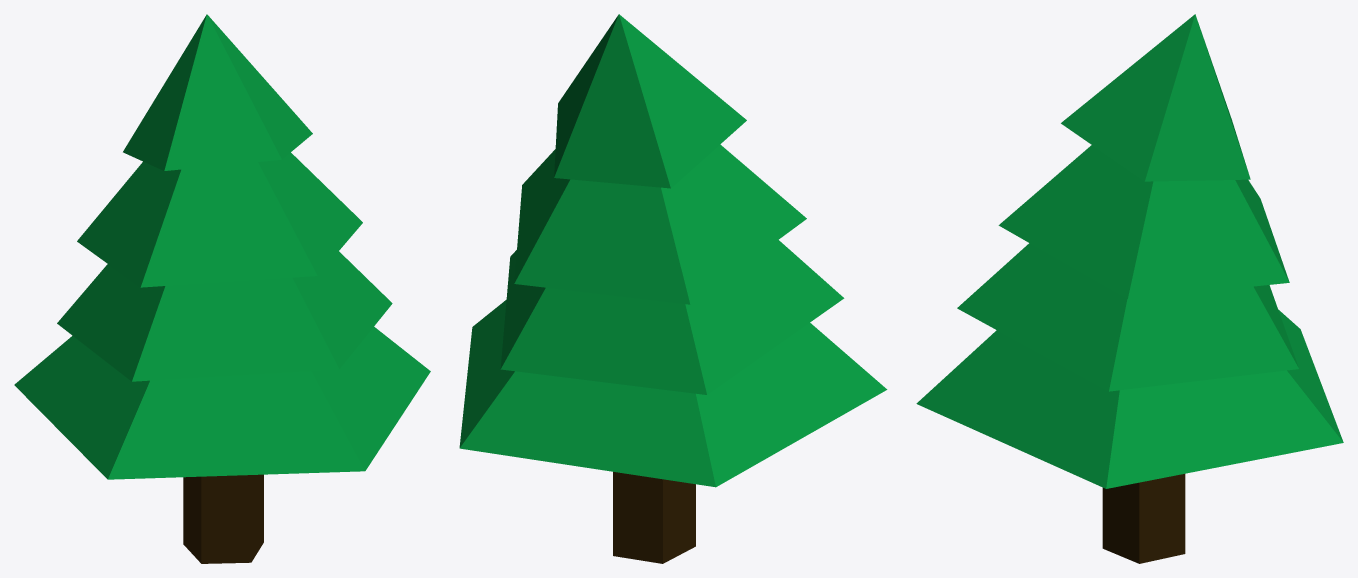
File: Tree_2.fbx
3 views of the same model, side by side, from view 1: azimuth 30°, elevation 25°; view 2: azimuth 150°, elevation 25°; view 3: azimuth 270°, elevation 25° (orthographic). The views are drawn at different scales.
Parts seen in each view (by area): view 1: Tree2_Leaves1, Tree2_Leaves2, Tree2_Leaves3, Tree2_Leaves4, Tree2; view 2: Tree2_Leaves1, Tree2_Leaves3, Tree2_Leaves2, Tree2_Leaves4, Tree2; view 3: Tree2_Leaves1, Tree2_Leaves2, Tree2_Leaves3, Tree2_Leaves4, Tree2.
Boxes of the visible parts, x1,y1,x2,y2 form: Tree2_Leaves1: (14,326,430,479); Tree2_Leaves2: (57,251,392,381); Tree2_Leaves3: (77,152,362,287); Tree2_Leaves4: (123,14,312,170); Tree2: (183,474,263,563); Tree2_Leaves1: (459,299,887,487); Tree2_Leaves3: (514,144,806,304); Tree2_Leaves2: (500,240,844,394); Tree2_Leaves4: (554,14,746,188); Tree2: (613,472,695,563); Tree2_Leaves1: (916,309,1343,488); Tree2_Leaves2: (957,243,1298,391); Tree2_Leaves3: (998,145,1289,299); Tree2_Leaves4: (1061,14,1250,181); Tree2: (1102,474,1185,563).
Bounding box in the file's own units: 557 × 558 × 770.
